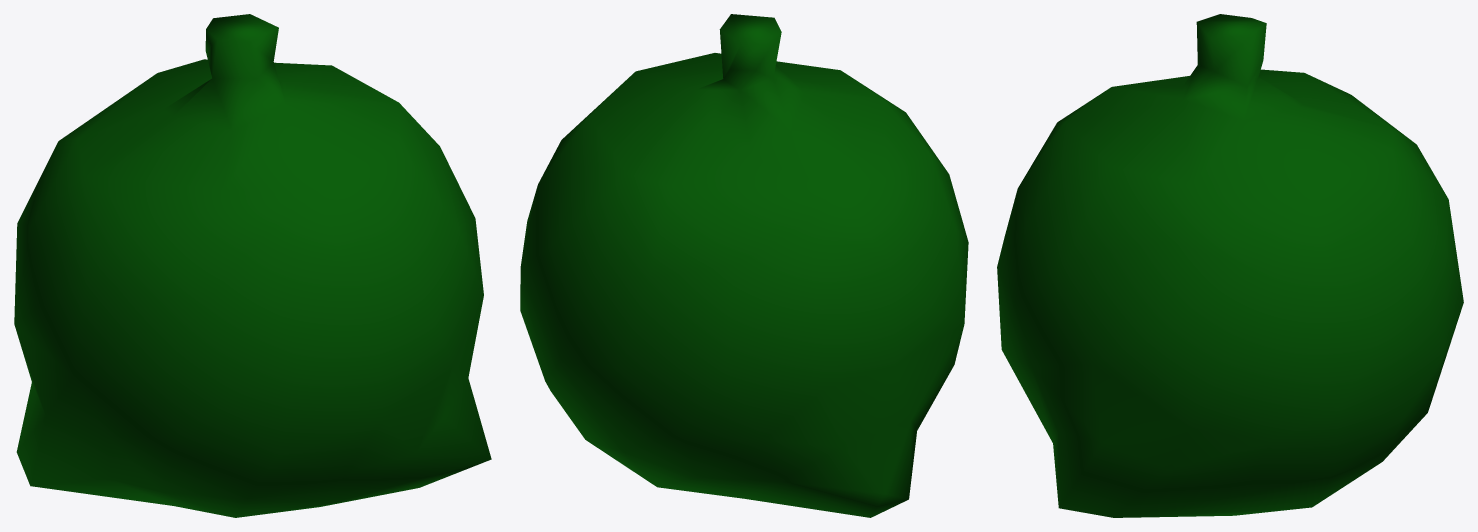
File: sackful04.FBX
3 renders of one model, left to right at view 1: azimuth 30°, elevation 25°; view 2: azimuth 150°, elevation 25°; view 3: azimuth 270°, elevation 25°, orthographic. The views are drawn at different scales.
Parts seen in each view (by area): view 1: SM_sackful04_0; view 2: SM_sackful04_0; view 3: SM_sackful04_0.
Part boxes in pixels (x1,y1,x2,y2): SM_sackful04_0: (14,14,491,517); SM_sackful04_0: (520,14,968,517); SM_sackful04_0: (997,14,1463,517).
Size of the model in its own units: 55.71 by 55.91 by 58.11.
